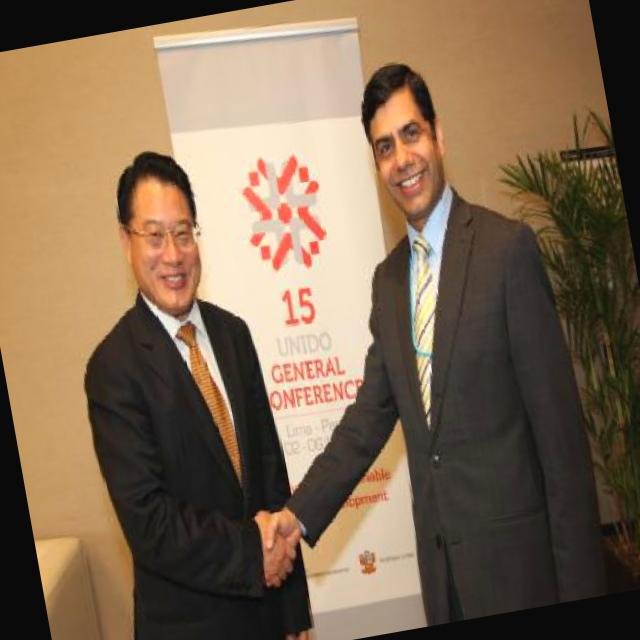Person: (220, 36, 601, 639), (45, 131, 316, 640)
